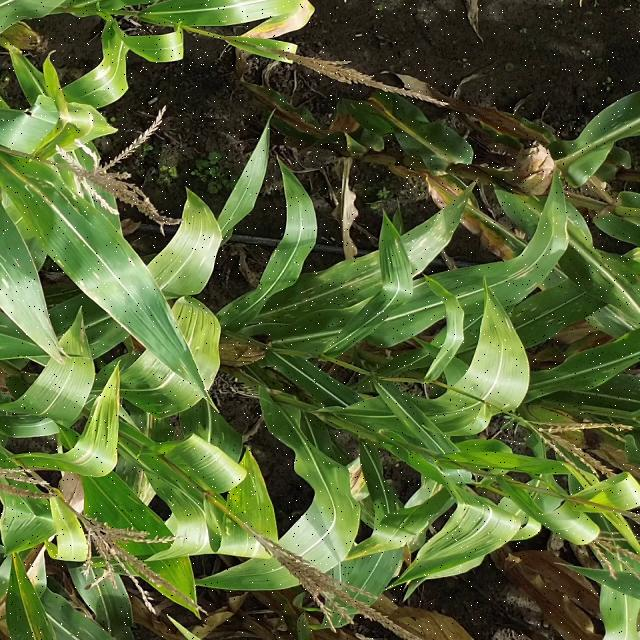gray-leaf-spot: (404, 224, 470, 258)
northern-leaf-blight: (271, 101, 397, 138), (258, 8, 321, 40), (346, 458, 376, 506), (76, 435, 108, 473), (96, 63, 118, 88)
southern-leaf-blight: (292, 271, 373, 308)
